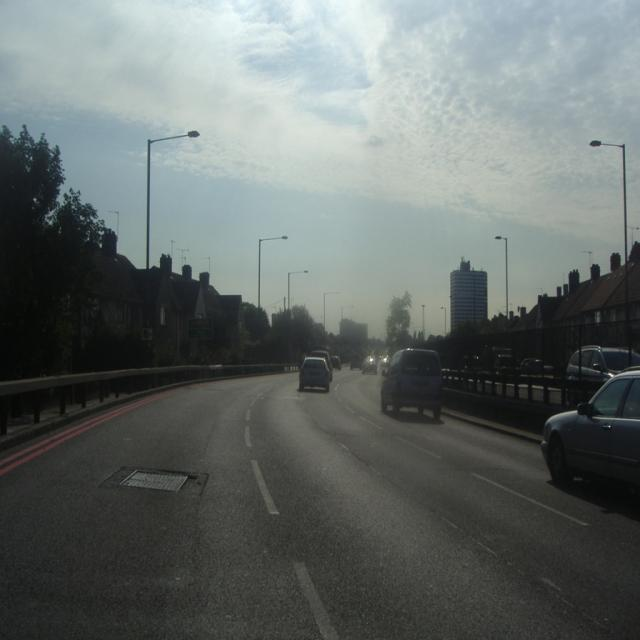Passenger Car: (540, 366, 640, 505), (382, 348, 444, 422), (297, 358, 332, 392)
